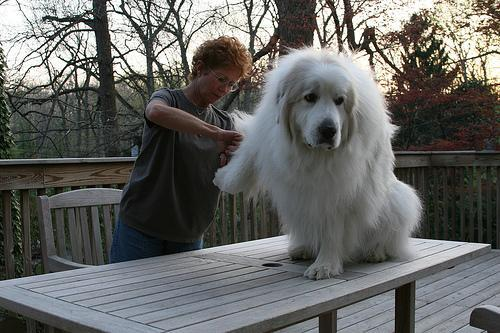Great_Pyrenees: (212, 45, 421, 280)
